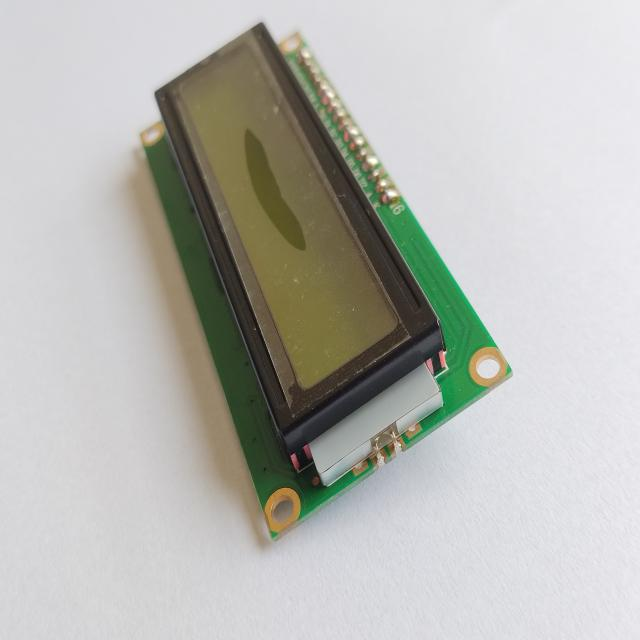lcd: (131, 14, 518, 546)
